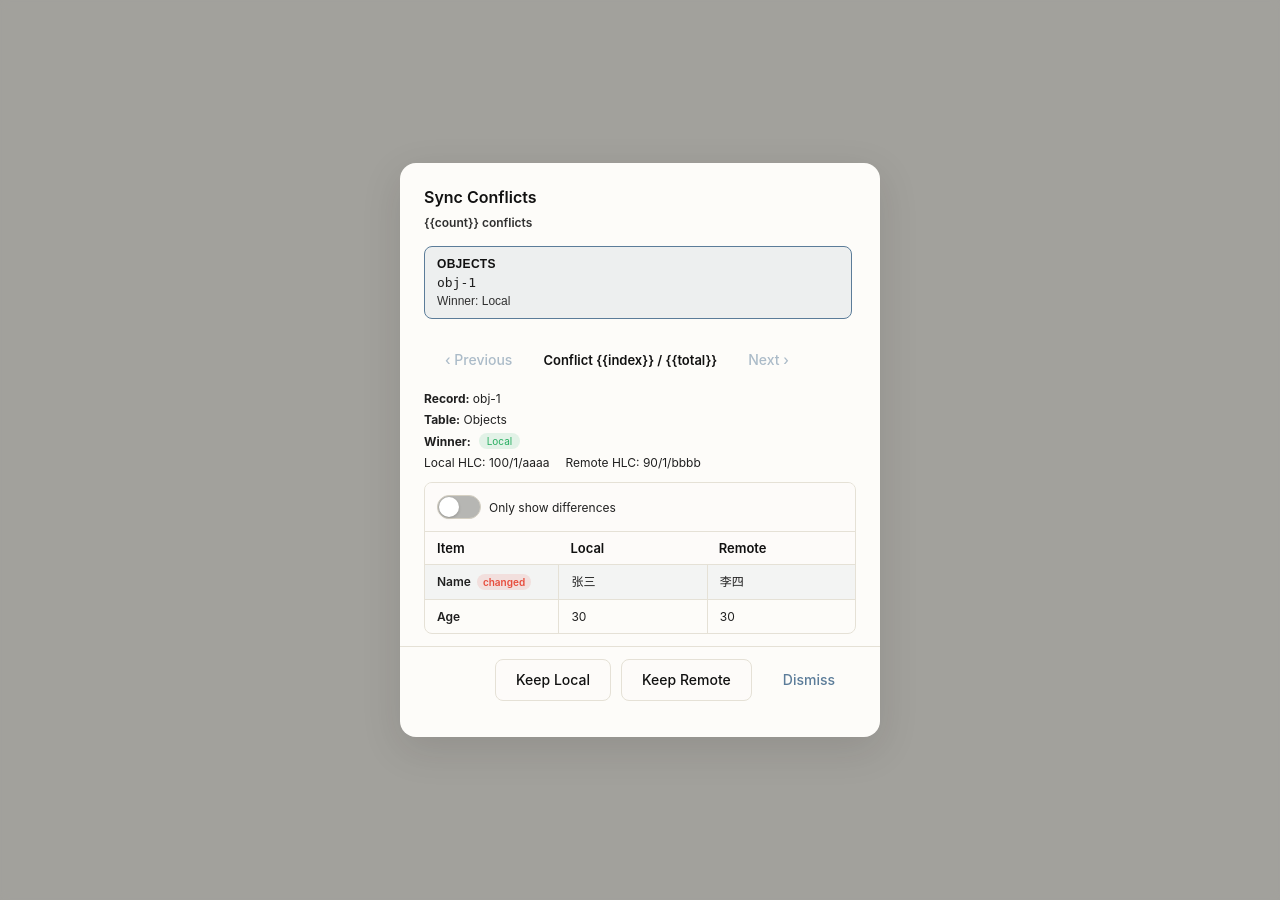
Test: SyncConflictDialog (P027 渲染回归) › 切换「只看差异」后隐藏未变化字段行
Expected: the text "Name" is shown, [437,574,471,589]
Click the switch.
click(459, 507)  # box [437,491,481,523]
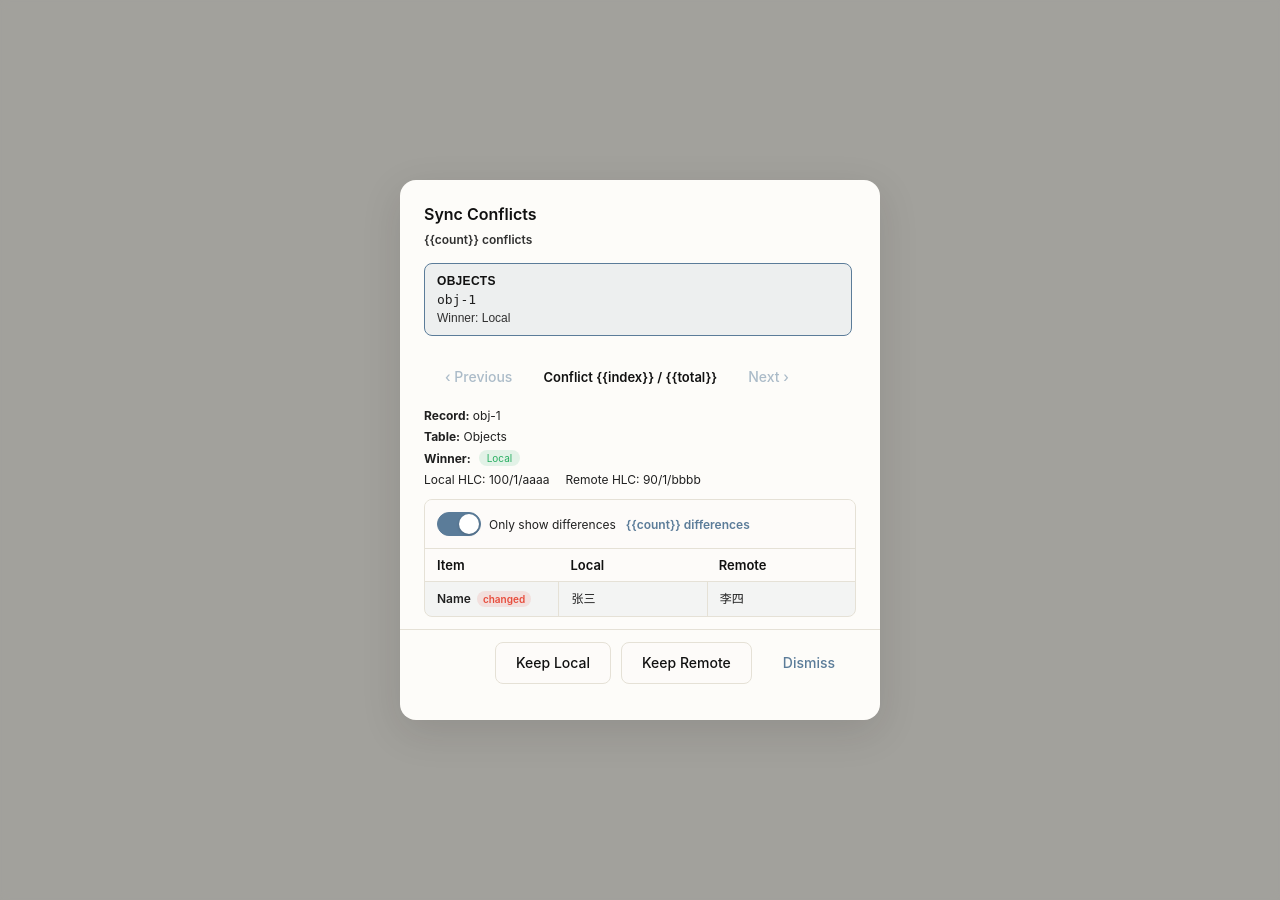
Expected: the text "Name" is shown, [437,591,471,606]
Now the text "Age" is gone
